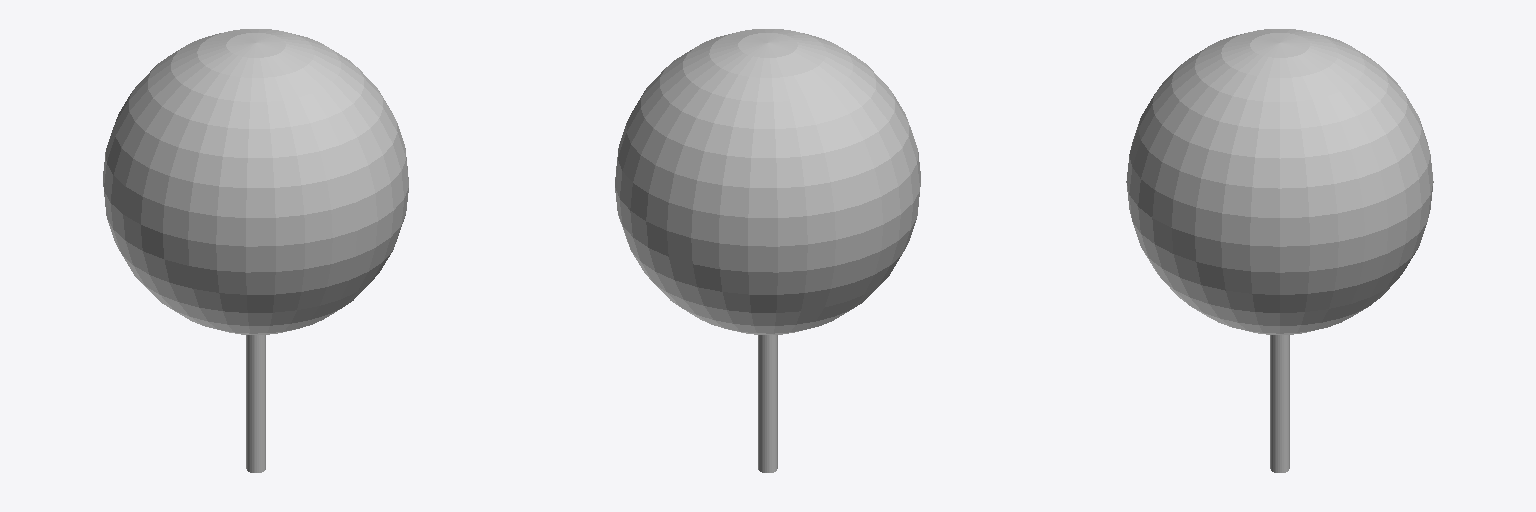
File: dandelion.obj
3 views of the same model, side by side, from view 1: azimuth 30°, elevation 25°; view 2: azimuth 150°, elevation 25°; view 3: azimuth 270°, elevation 25° (orthographic).
Visible parts, largest first — view 1: Sphere, Cylinder; view 2: Sphere, Cylinder; view 3: Sphere, Cylinder.
Part boxes in pixels (bbox=[...]): Sphere: bbox=[103, 29, 408, 334]; Cylinder: bbox=[246, 335, 265, 472]; Sphere: bbox=[615, 29, 920, 334]; Cylinder: bbox=[758, 335, 777, 472]; Sphere: bbox=[1126, 29, 1433, 334]; Cylinder: bbox=[1270, 335, 1289, 472].
Size of the model in its own units: 13.2 by 20.23 by 13.2.